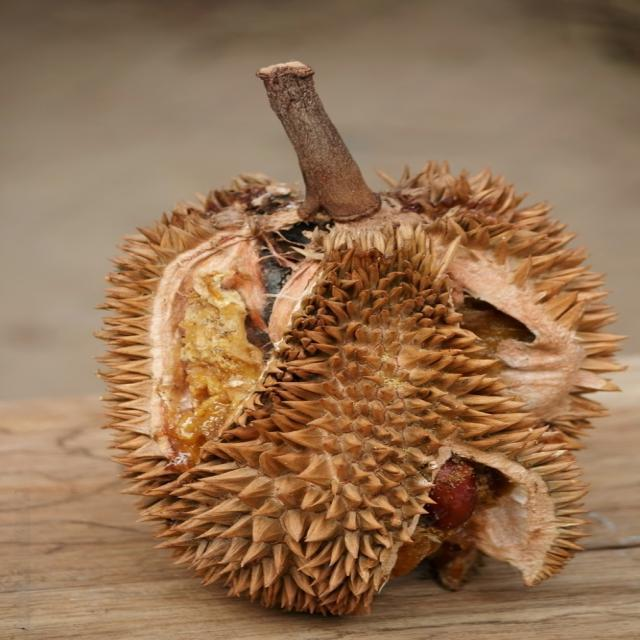defective: (92, 157, 632, 618)
